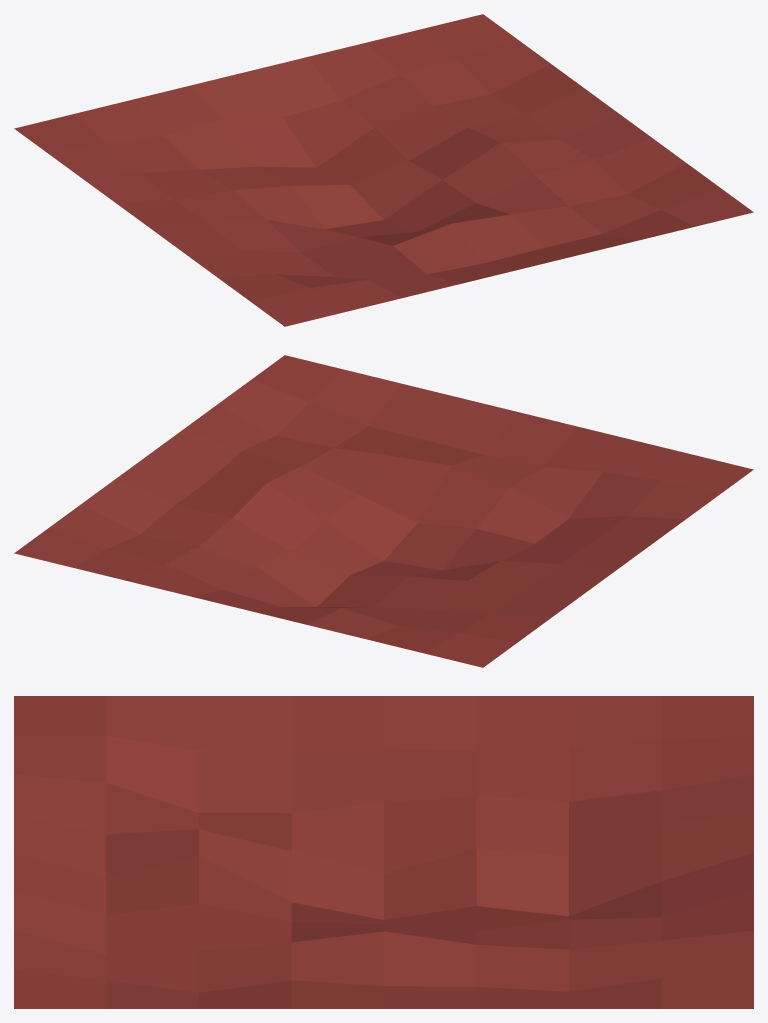
Rendered from Terrain_3_Red.fbx.
The picture shows the model from 3 angles, top to bottom: view 1: azimuth 30°, elevation 25°; view 2: azimuth 150°, elevation 25°; view 3: azimuth 270°, elevation 25°; orthographic projection. The views are drawn at different scales.
Parts seen in each view (by area): view 1: Terrain_3_Red; view 2: Terrain_3_Red; view 3: Terrain_3_Red.
Boxes of the visible parts, x1,y1,x2,y2 form: Terrain_3_Red: (14,14,753,326); Terrain_3_Red: (14,355,753,667); Terrain_3_Red: (14,696,753,1008).
Size of the model in its own units: 2000 by 201 by 2000.
